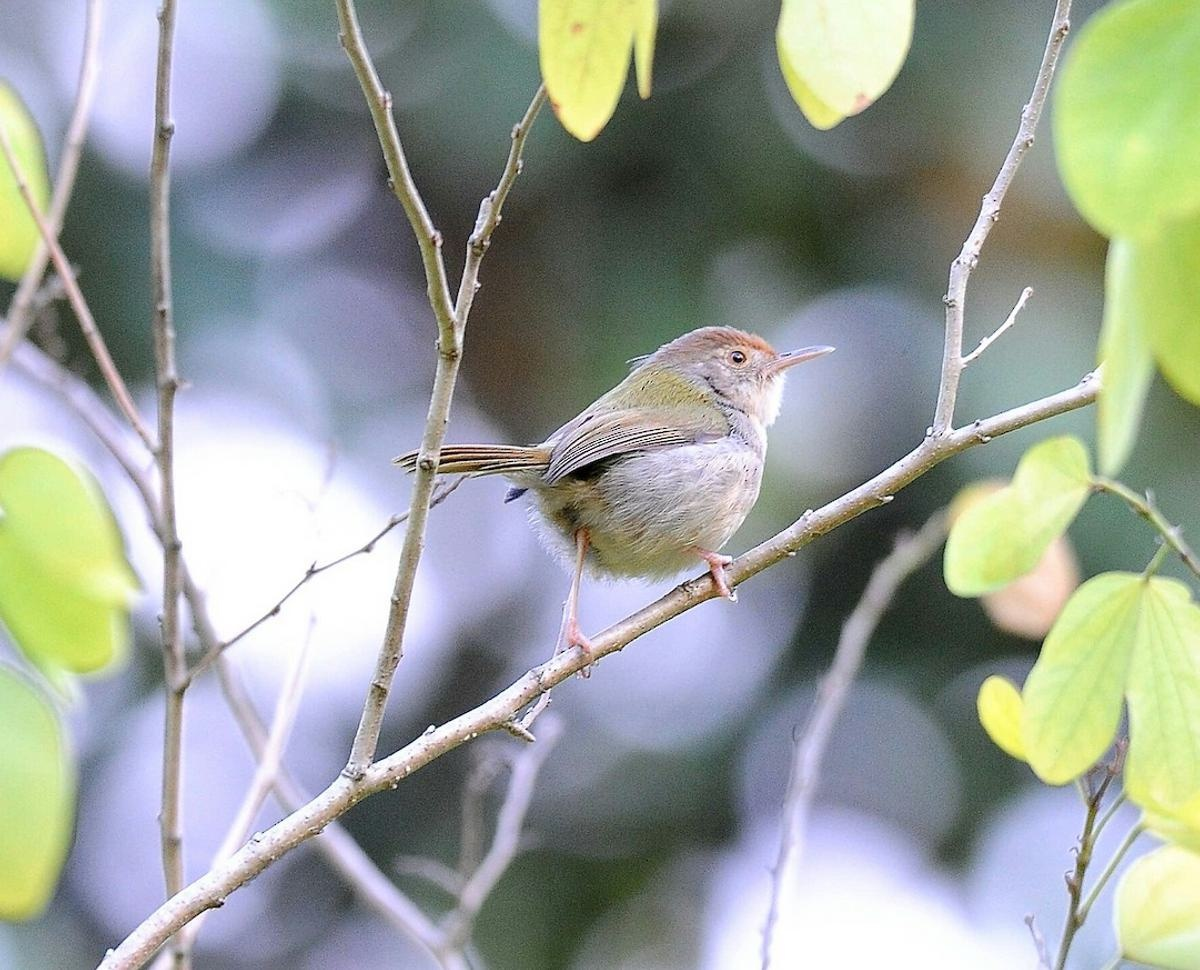tailorbird: (385, 303, 850, 646)
